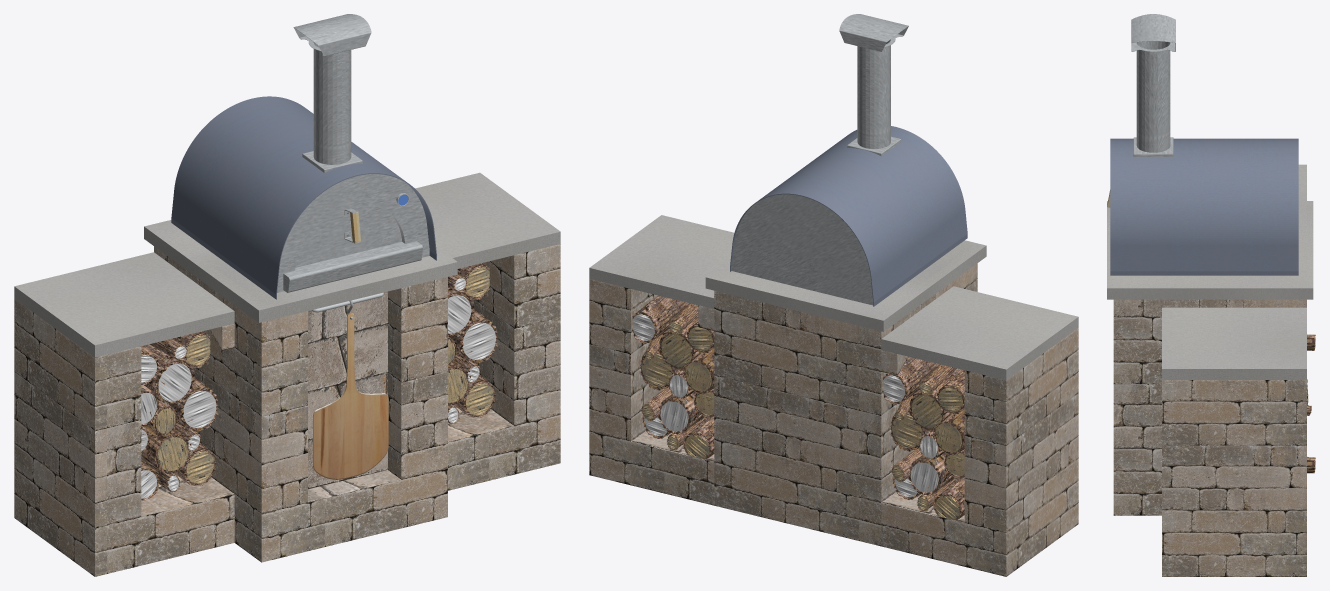
The model's file is Unity-Z.glb.
3 views of the same model, side by side, from view 1: azimuth 30°, elevation 25°; view 2: azimuth 150°, elevation 25°; view 3: azimuth 270°, elevation 25° (orthographic). The views are drawn at different scales.
Parts seen in each view (by area): view 1: C-Metro-Z, _C-Pizza Oven Low Poly (Loose Mesh), G-Object.001, G-Object, G-Object.043, G-Object.036, G-Object.044, _C-Component#60 (Loose Mesh).020, _C-Component#60 (Loose Mesh).017, _C-Component#60 (Loose Mesh).002, _C-Component#60 (Loose Mesh).026, _C-Component#60 (Loose Mesh).016 (+5 smaller); view 2: C-Metro-Z, _C-Pizza Oven Low Poly (Loose Mesh), G-Object.001, G-Object, G-Object.043, _C-Component#60 (Loose Mesh).004, _C-Component#60 (Loose Mesh).019, _C-Component#60 (Loose Mesh).026, _C-Component#60 (Loose Mesh).011, _C-Component#60 (Loose Mesh).020, _C-Component#60 (Loose Mesh).005, _C-Component#60 (Loose Mesh).007 (+7 smaller); view 3: C-Metro-Z, _C-Pizza Oven Low Poly (Loose Mesh), G-Object.001, G-Object, G-Object.043.
Part boxes in pixels (x1,y1,x2,y2): C-Metro-Z: (14,244,560,576); _C-Pizza Oven Low Poly (Loose Mesh): (171,96,436,299); G-Object.001: (14,172,560,357); G-Object: (144,220,457,322); G-Object.043: (293,14,371,172); G-Object.036: (313,313,388,479); G-Object.044: (283,241,422,292); _C-Component#60 (Loose Mesh).020: (143,344,194,404); _C-Component#60 (Loose Mesh).017: (158,376,218,431); _C-Component#60 (Loose Mesh).002: (448,308,497,363); _C-Component#60 (Loose Mesh).026: (141,426,191,473); _C-Component#60 (Loose Mesh).016: (174,443,216,485); C-Metro-Z: (589,263,1078,576); _C-Pizza Oven Low Poly (Loose Mesh): (730,126,967,306); G-Object.001: (589,215,1078,380); G-Object: (705,240,986,331); G-Object.043: (839,14,908,156); _C-Component#60 (Loose Mesh).004: (632,295,689,343); _C-Component#60 (Loose Mesh).019: (882,357,939,404); _C-Component#60 (Loose Mesh).026: (908,452,954,495); _C-Component#60 (Loose Mesh).011: (658,391,704,434); _C-Component#60 (Loose Mesh).020: (909,368,963,430); _C-Component#60 (Loose Mesh).005: (659,316,700,369); _C-Component#60 (Loose Mesh).007: (682,416,714,459); C-Metro-Z: (1113,299,1306,576); _C-Pizza Oven Low Poly (Loose Mesh): (1110,138,1298,275); G-Object.001: (1162,164,1306,379); G-Object: (1107,201,1313,299); G-Object.043: (1131,14,1175,156).
Size of the model in its own units: 2 by 2.04 by 0.8644.
Materials: 20 (9 with a texture image).
